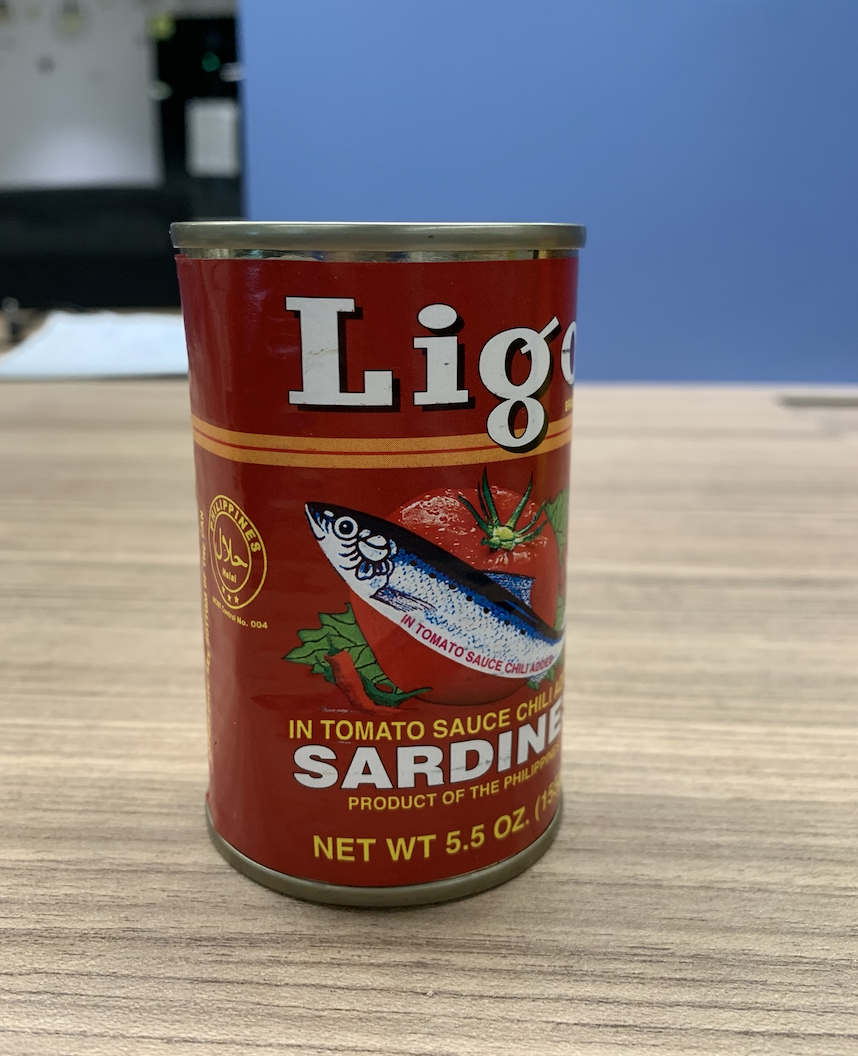sardines_150g: (203, 270, 564, 865)
